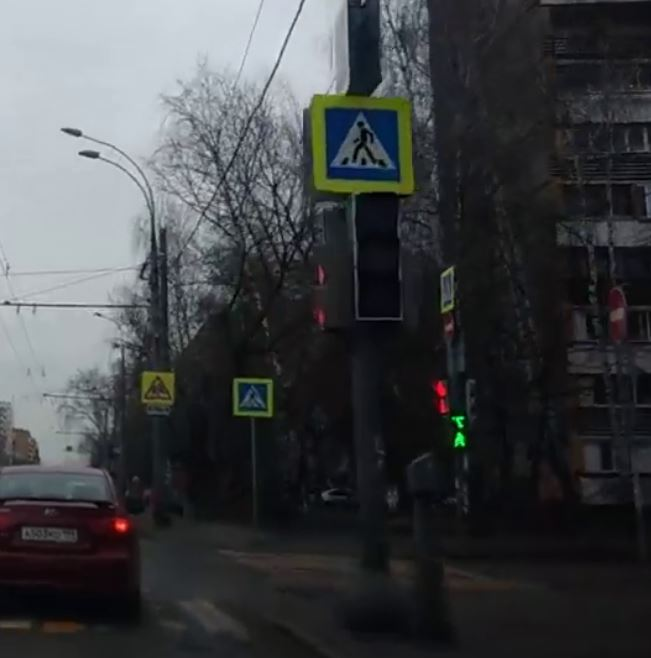Yaya Gecidi: (326, 106, 400, 185)
